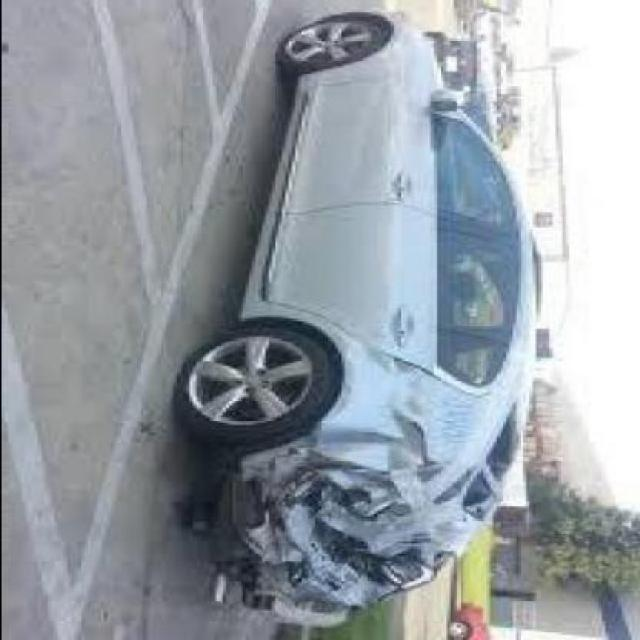damage: (206, 365, 524, 612)
